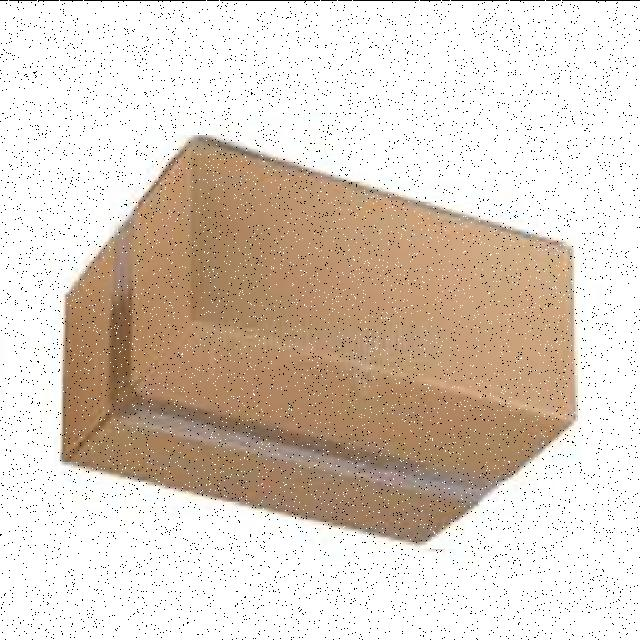normal: (54, 134, 583, 548)
